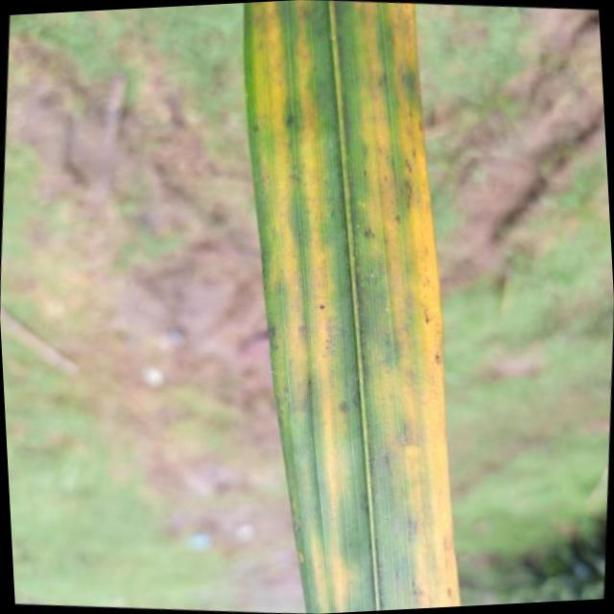Megnesium: (246, 0, 461, 614)
